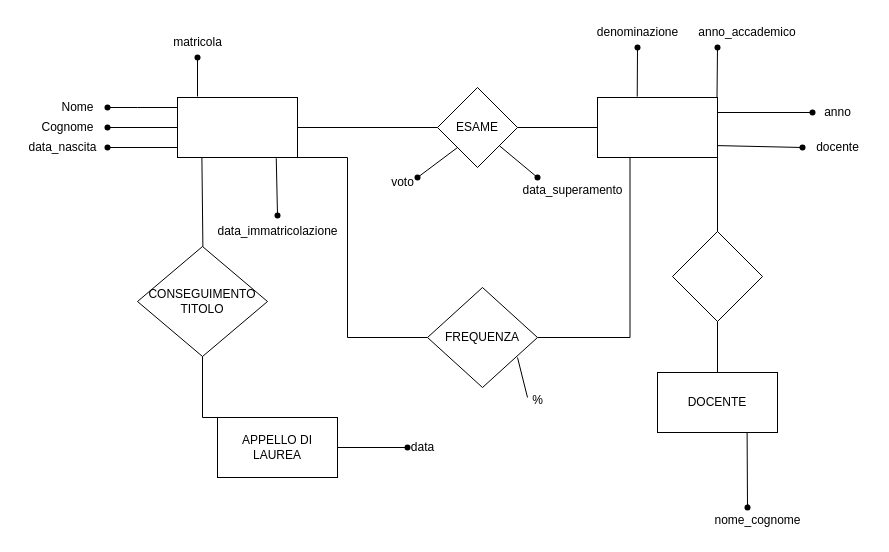
Image size: 889x552. Some labels were removed from this diagram. The shapes that lost their labels are listed below. From the top down, each one's centre as x and y in pixels, then its label:
(x=237, y=127): STUDENTE
(x=657, y=127): INSEGNAMENTO
(x=717, y=276): COPERTURA
